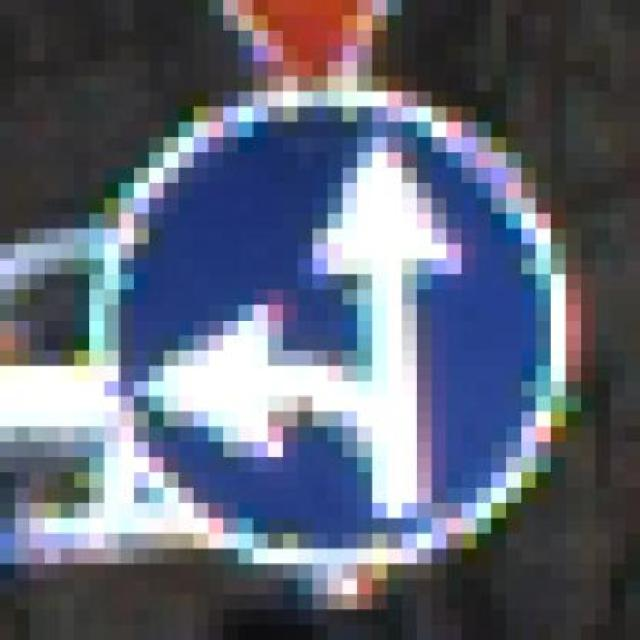Go straight or turn left: (59, 61, 610, 579)
